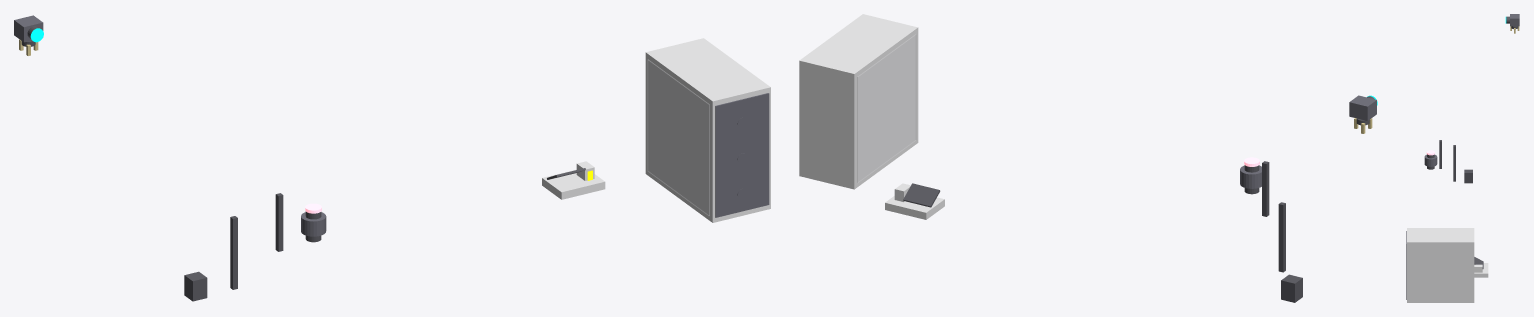
The model's file is on-demand-projects.glb.
The picture shows the model from 3 angles, left to right: view 1: azimuth 30°, elevation 25°; view 2: azimuth 150°, elevation 25°; view 3: azimuth 270°, elevation 25°; orthographic projection. The views are drawn at different scales.
Parts seen in each view (by area): view 1: pc_chassis_frame, pc_glass_side_panel, pc_front_mesh, zenith_pedestal, mic_desk_clamp, mic_arm_lower, mic_arm_upper, mic_shockmount; view 2: pc_chassis_frame, pc_glass_side_panel, zenith_pedestal, zenith_solar_panel, ai_cam_chassis, mic_arm_lower, mic_desk_clamp, mic_arm_upper, mic_shockmount; view 3: pc_chassis_frame, zenith_pedestal, mic_shockmount, mic_desk_clamp, ai_cam_chassis, mic_arm_lower.
Part boxes in pixels (x1,y1,x2,y2): pc_chassis_frame: (645,38,770,222); pc_glass_side_panel: (647,59,709,215); pc_front_mesh: (715,93,769,217); zenith_pedestal: (542,169,605,199); mic_desk_clamp: (184,271,207,301); mic_arm_lower: (230,216,237,289); mic_arm_upper: (275,193,283,251); mic_shockmount: (301,212,326,236); pc_chassis_frame: (799,14,918,189); pc_glass_side_panel: (857,34,916,182); zenith_pedestal: (885,196,944,219); zenith_solar_panel: (903,183,940,207); ai_cam_chassis: (1349,95,1376,120); mic_arm_lower: (1278,202,1285,272); mic_desk_clamp: (1281,274,1302,302); mic_arm_upper: (1262,161,1269,216); mic_shockmount: (1240,165,1261,188); pc_chassis_frame: (1407,228,1474,302); zenith_pedestal: (1474,263,1488,277); mic_shockmount: (1424,154,1437,166); mic_desk_clamp: (1464,169,1472,183); ai_cam_chassis: (1510,14,1519,26); mic_arm_lower: (1453,145,1455,181).
Bounding box in the file's own units: 2.66 × 1.07 × 0.811.
